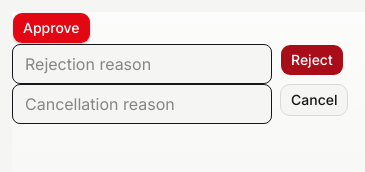
Test: TransferLifecycleControls › requires a rejection reason before submitting and surfaces a rejected reject RPC
Type "Wrong quantity requested" into the field named "Reject reason" at (142, 64), box [12, 44, 272, 84]
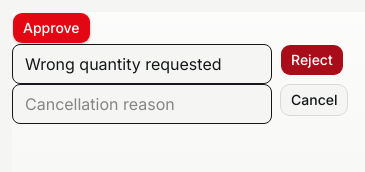
Click the button "Reject" at (312, 60), box [280, 44, 344, 76]
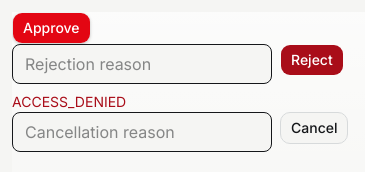
Now the message reads "ACCESS_DENIED", box [12, 93, 126, 110]
